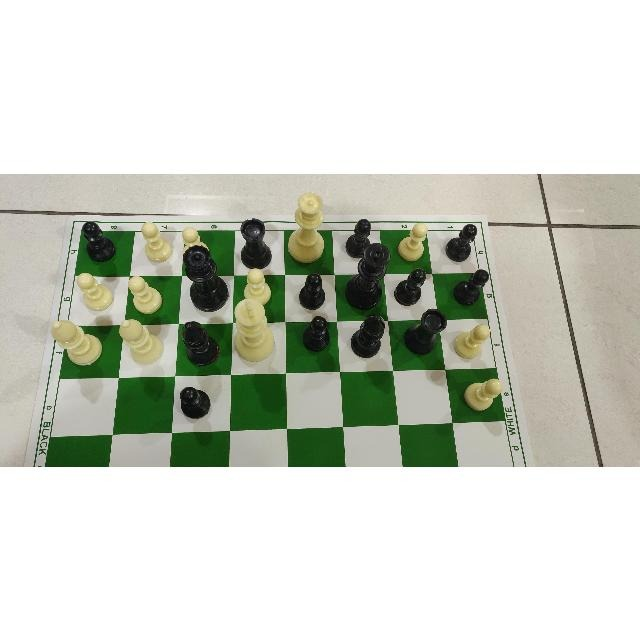black-bishop: (176, 317, 223, 372), (348, 310, 389, 360)
black-king: (347, 240, 393, 314)
black-pawn: (78, 217, 118, 262), (175, 382, 217, 422), (443, 218, 481, 262), (448, 267, 489, 307), (297, 269, 331, 313), (392, 266, 426, 308), (341, 215, 374, 258), (302, 315, 332, 353)
black-queen: (180, 241, 230, 316)
black-rook: (402, 307, 450, 363), (237, 215, 279, 272)
white-bishop: (46, 314, 106, 369), (114, 316, 165, 366)
white-king: (231, 296, 278, 368)
white-pawn: (459, 372, 509, 416), (131, 218, 175, 266), (71, 268, 113, 311), (452, 319, 493, 363), (126, 269, 166, 314), (393, 221, 433, 265), (179, 222, 217, 267), (242, 265, 278, 309)
white-queen: (285, 189, 331, 265)
